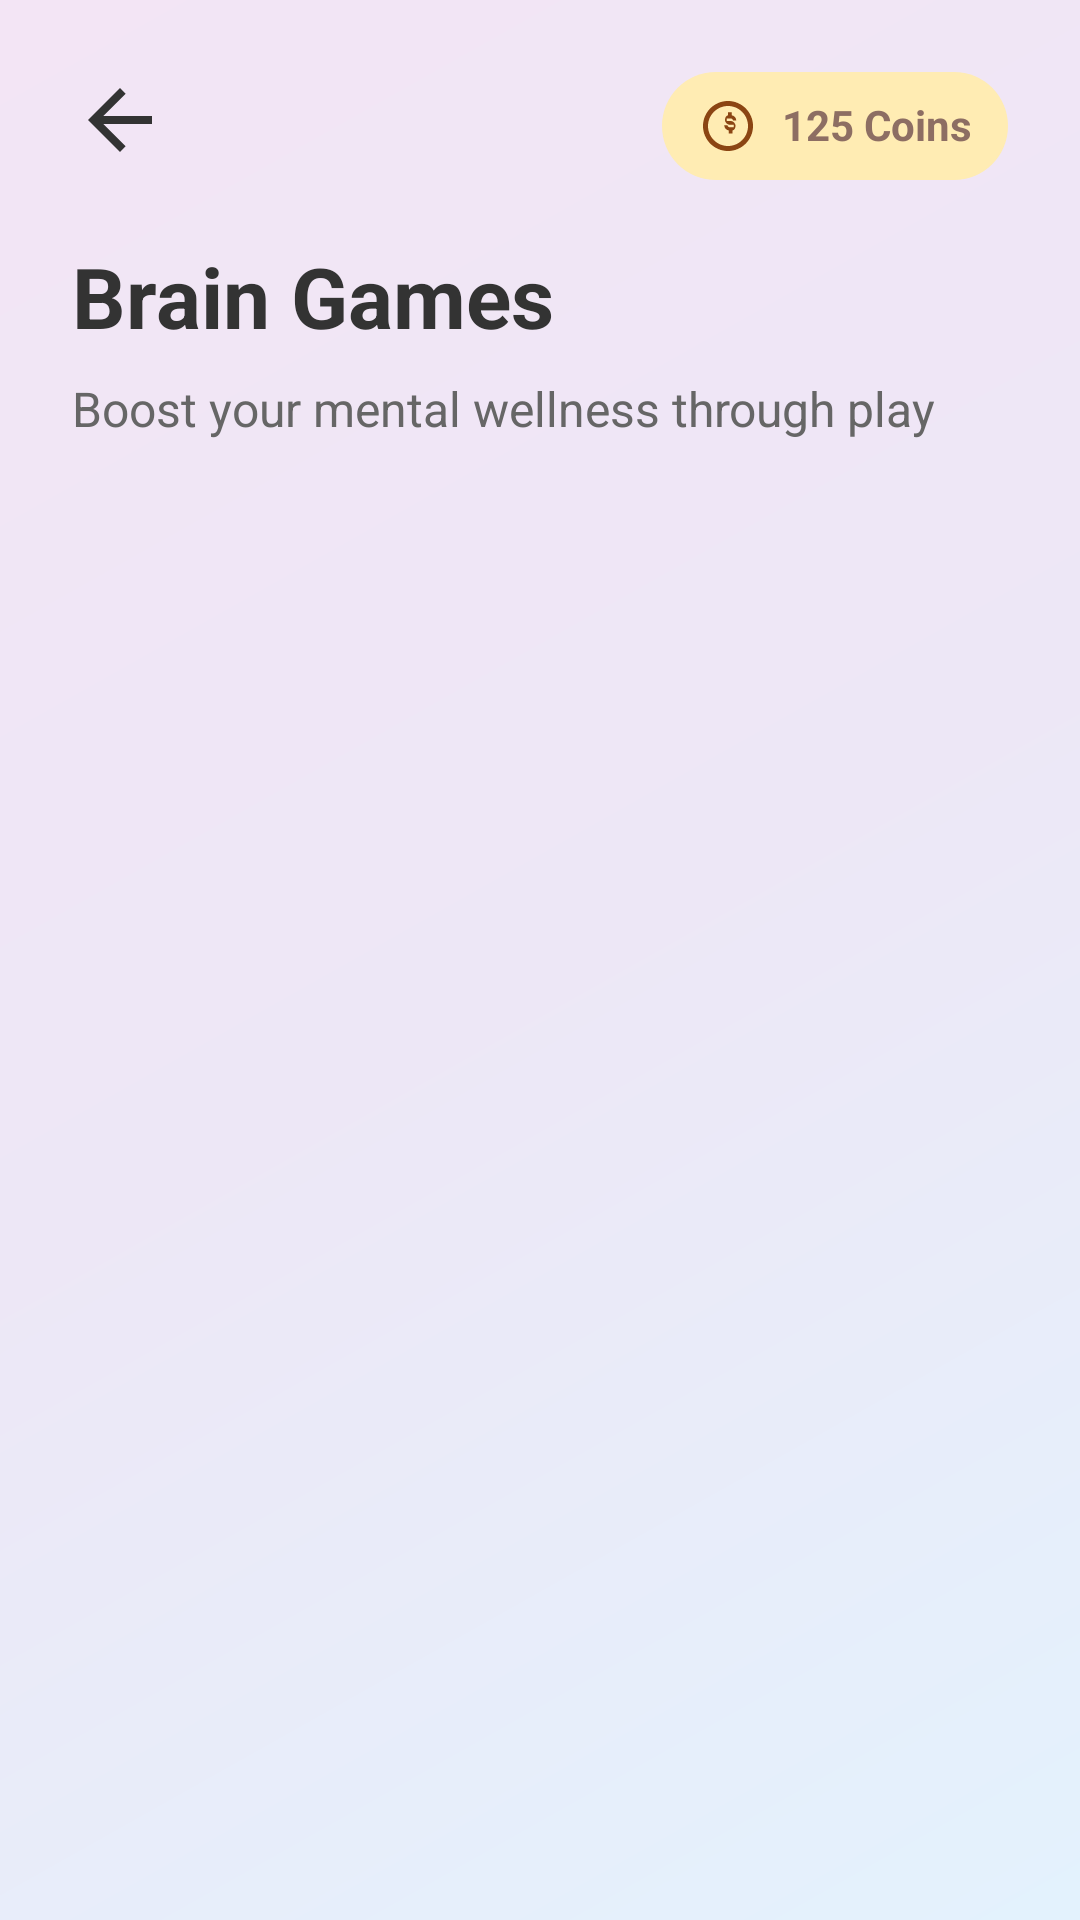

Locate icon controls on the screen. Image size 1080*1920, boxes as (left=x1, top=y1, right=x2, bottom=y2).
arrow back: (left=88, top=88, right=152, bottom=152)
